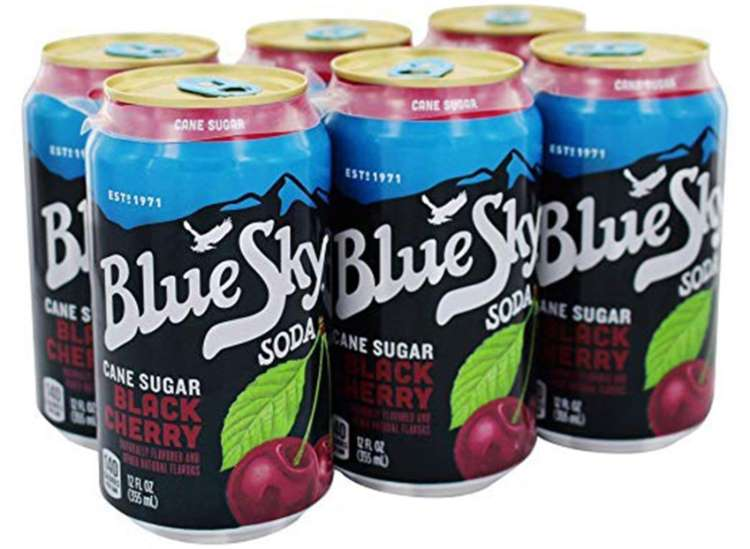can: (80, 60, 341, 548), (315, 39, 539, 500), (517, 27, 724, 456), (22, 29, 225, 448)
